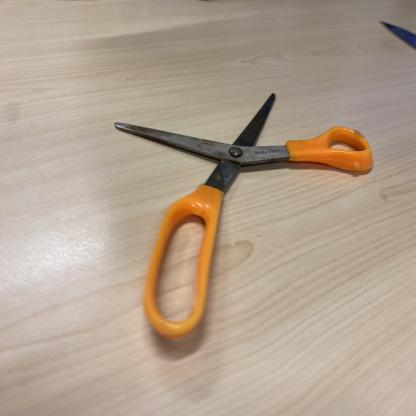Knife: (381, 16, 416, 56)
scissors: (113, 88, 376, 348)
